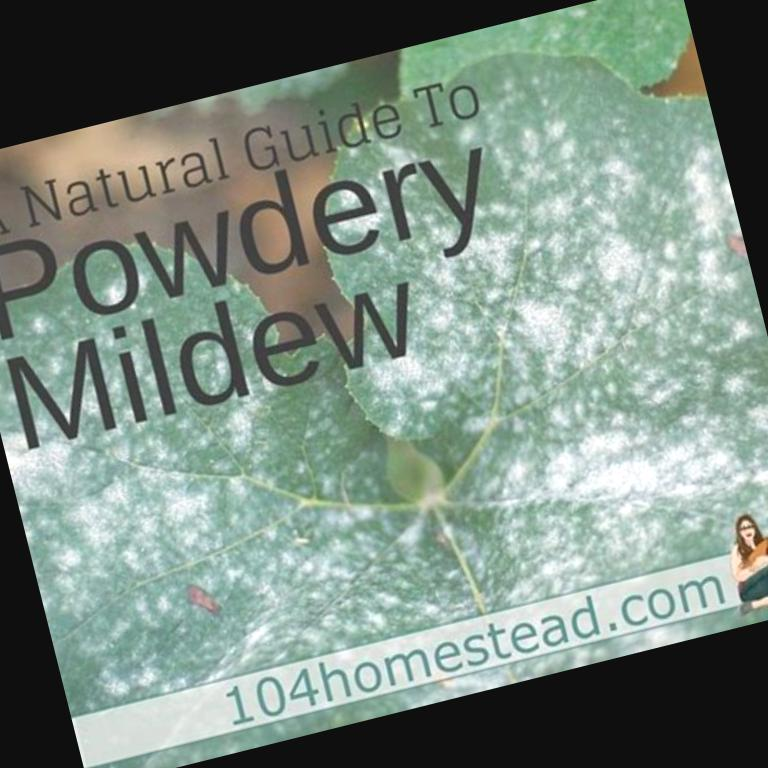powdery-mildew: (451, 211, 768, 543), (33, 399, 362, 691)
